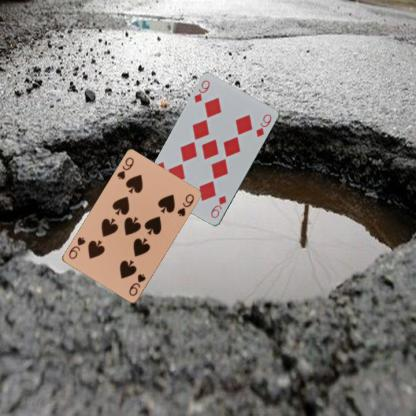9d: (208, 193, 228, 220), (192, 78, 212, 104)
9s: (114, 155, 136, 181), (126, 272, 147, 298)
